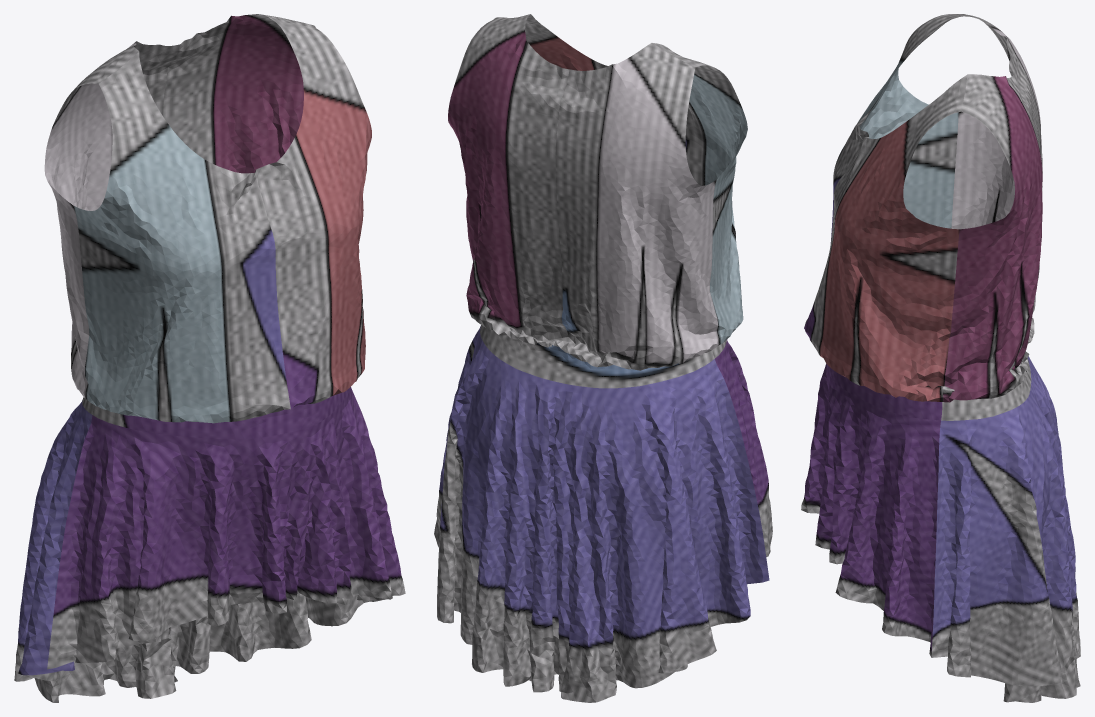
The model's file is valid_garment_wholebody_sim.obj.
The picture shows the model from 3 angles, left to right: view 1: azimuth 30°, elevation 25°; view 2: azimuth 150°, elevation 25°; view 3: azimuth 270°, elevation 25°; orthographic projection. The views are drawn at different scales.
Size of the model in its own units: 48.69 by 89.79 by 36.13.
